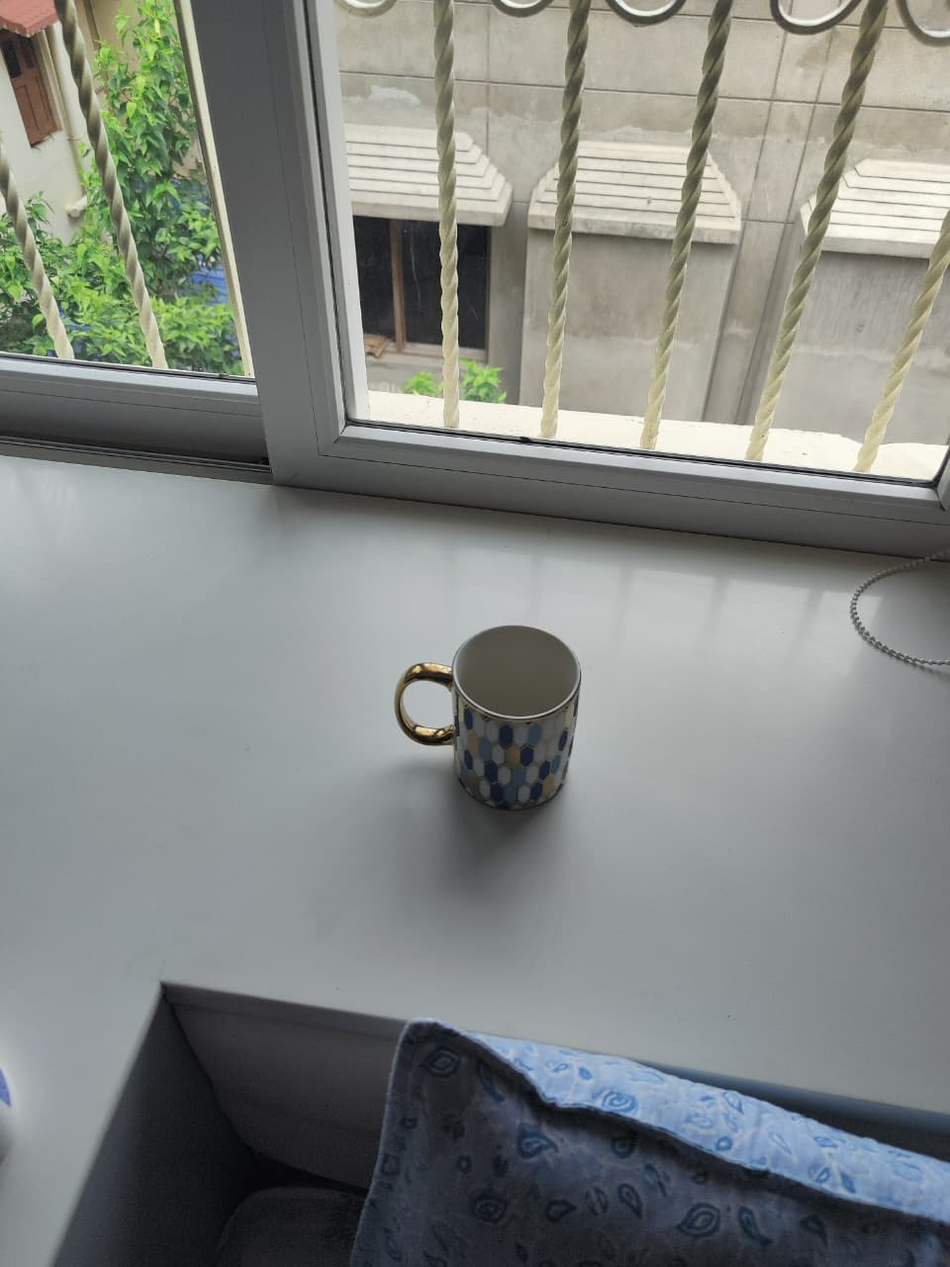cup: (393, 624, 582, 811)
